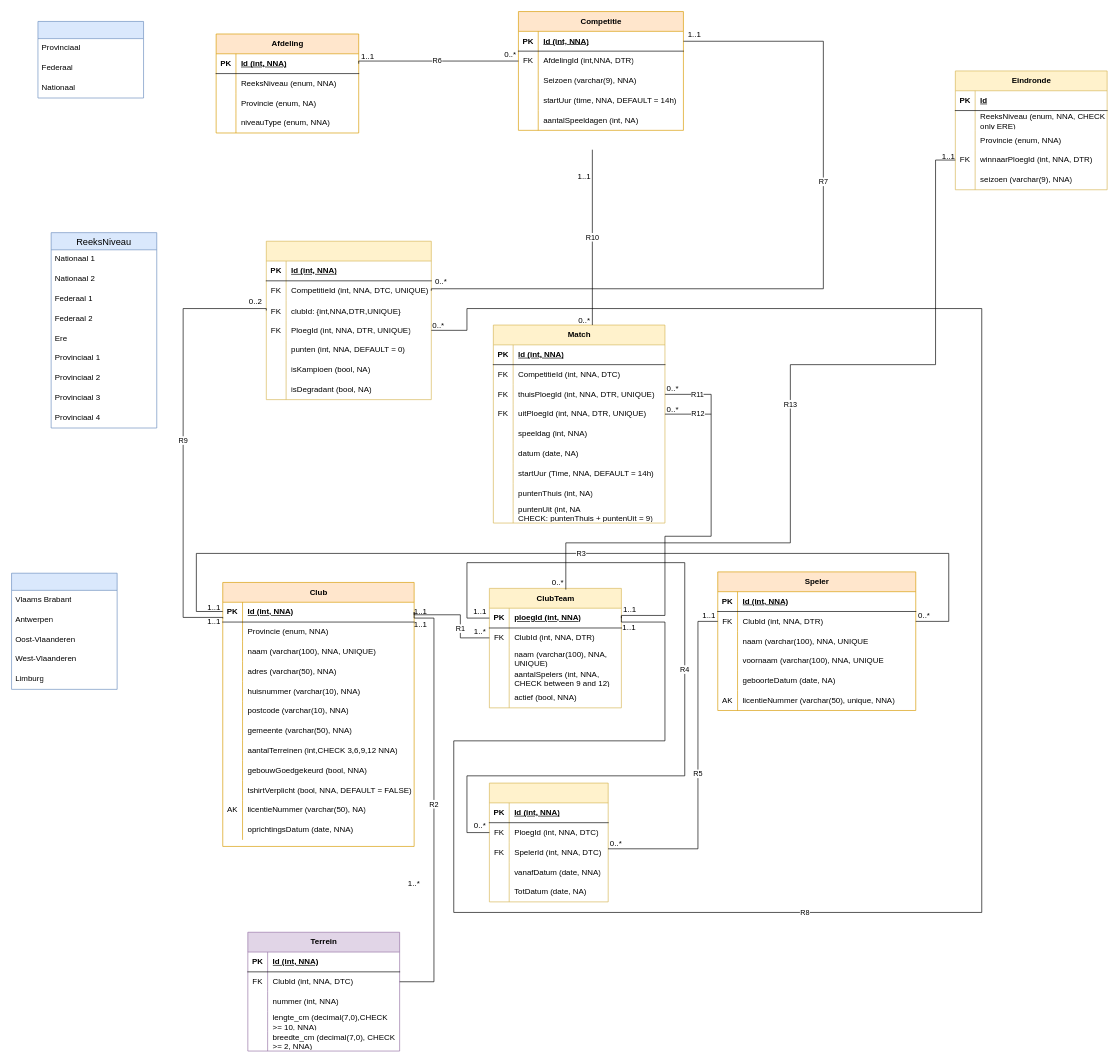
Image size: 1119x1063. Some labels were removed from this diagram. Here are the shapes that lost their labels. From the top down, the box of each, then its label:
(37, 21, 144, 98): nivueauType
(266, 241, 431, 400): CompetitieDeelname
(11, 573, 117, 689): Provincie
(489, 782, 608, 902): TeamSpeler
